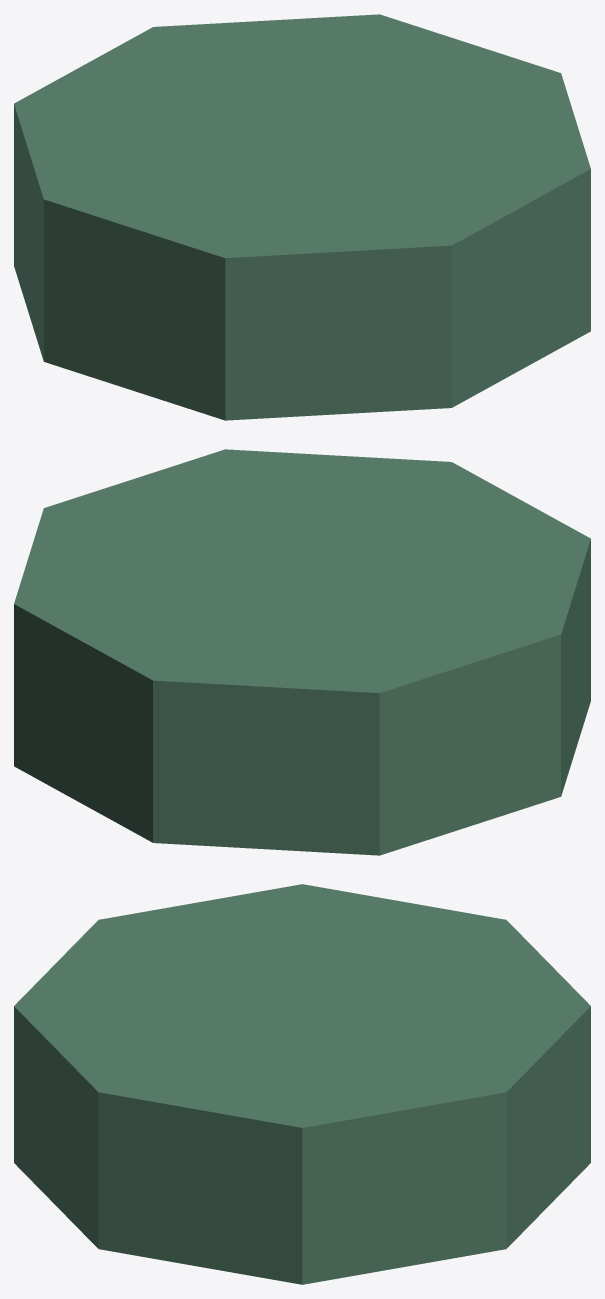
File: ejl-octagon-gallery.glb
3 views of the same model, one above another, from view 1: azimuth 30°, elevation 25°; view 2: azimuth 150°, elevation 25°; view 3: azimuth 270°, elevation 25° (orthographic). The views are drawn at different scales.
Parts seen in each view (by area): view 1: Cylinder; view 2: Cylinder; view 3: Cylinder.
Part boxes in pixels (left/top/right/bottom): Cylinder: left=14, top=14, right=590, bottom=420; Cylinder: left=14, top=449, right=590, bottom=855; Cylinder: left=14, top=884, right=590, bottom=1284.
Size of the model in its own units: 10 by 3 by 10.
